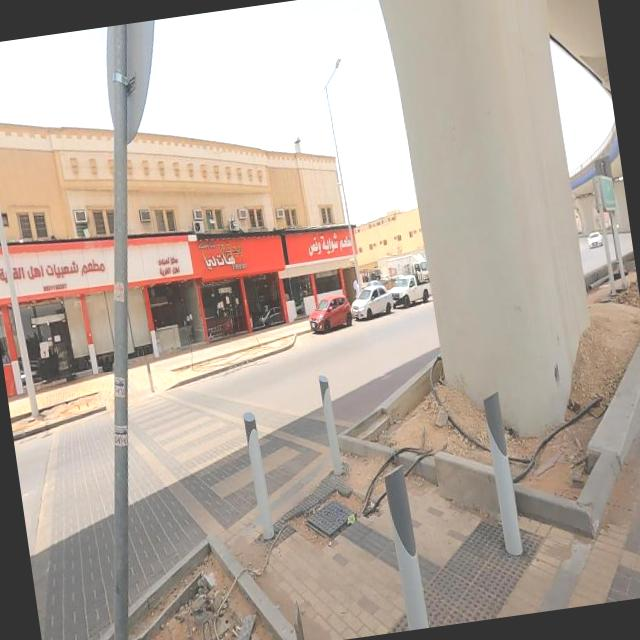debris: (105, 529, 312, 640), (410, 344, 530, 512)
